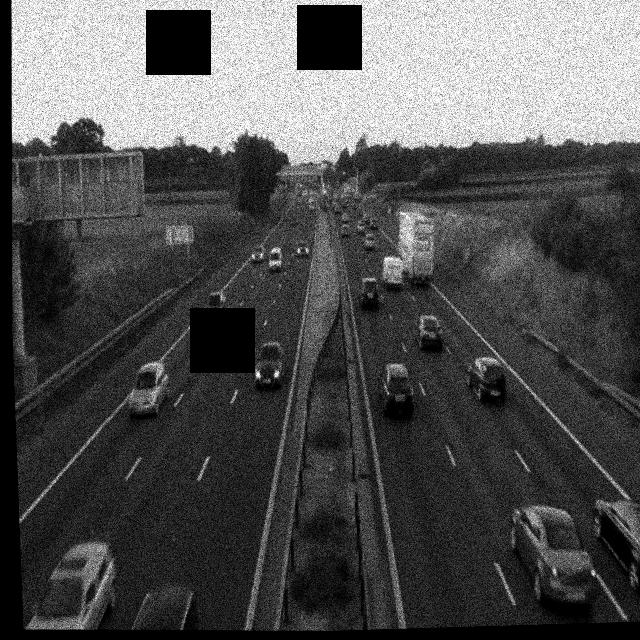car: (507, 501, 601, 609), (21, 538, 119, 632), (590, 498, 640, 599), (127, 584, 198, 632), (126, 360, 172, 417), (376, 362, 414, 417), (466, 356, 508, 403), (252, 341, 286, 389), (414, 313, 444, 351), (203, 289, 227, 323), (380, 255, 404, 289), (358, 277, 380, 310), (267, 246, 283, 270), (252, 244, 266, 263), (295, 238, 309, 256), (364, 233, 376, 249), (368, 217, 377, 231), (289, 212, 298, 225), (334, 205, 343, 218), (341, 224, 350, 236)
truck: (393, 204, 439, 284)
